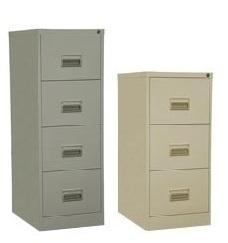cabinet_door: (149, 172, 207, 217), (149, 81, 208, 125), (149, 127, 207, 171), (42, 173, 100, 217), (42, 36, 99, 80), (41, 83, 98, 126), (42, 129, 99, 171)
handle: (61, 147, 83, 157), (61, 103, 82, 113), (169, 147, 190, 156), (169, 193, 190, 202), (61, 58, 81, 67), (63, 193, 83, 202), (170, 102, 189, 110)
